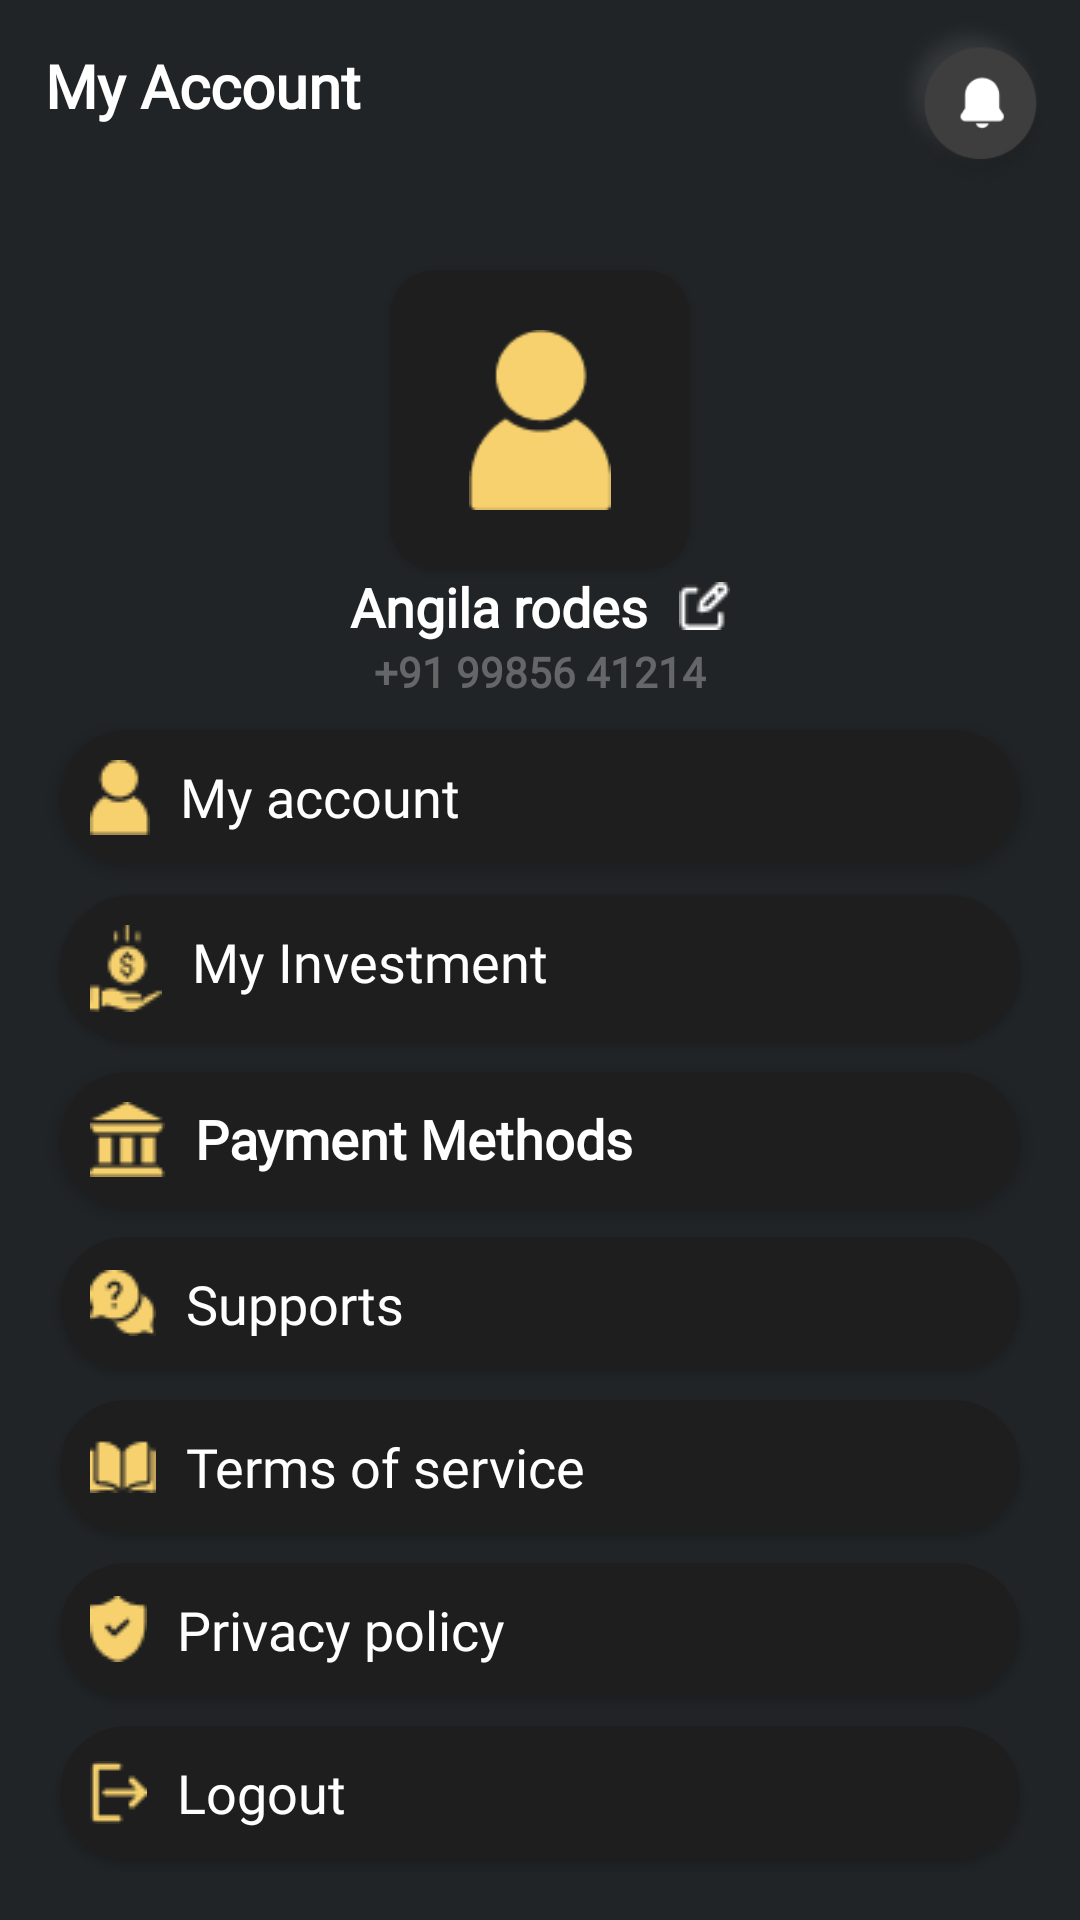

Screen size 1080*1920. Icon name, then its center in pixels as point (x, y):
notification: point (980, 103)
profile: point (540, 420)
